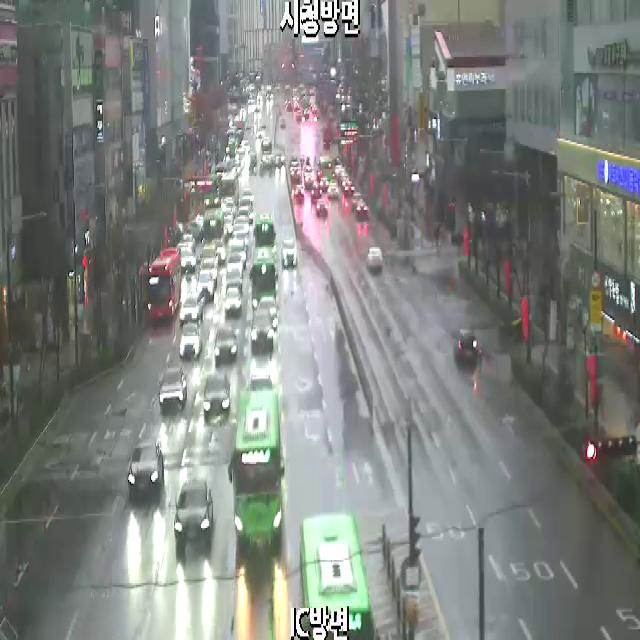Bus: (298, 513, 379, 640), (228, 388, 284, 548), (147, 249, 182, 322), (250, 261, 278, 304), (253, 212, 276, 260), (203, 208, 223, 246), (222, 172, 239, 205), (204, 173, 220, 206), (320, 157, 334, 182)
Car: (174, 478, 213, 540), (127, 439, 164, 497), (203, 374, 230, 422), (159, 366, 187, 409), (215, 327, 237, 366), (454, 328, 478, 363), (256, 297, 278, 333), (180, 294, 203, 327), (180, 324, 202, 358), (198, 270, 214, 300), (247, 374, 275, 391), (225, 287, 241, 316), (281, 240, 297, 268), (180, 249, 197, 273), (202, 261, 218, 286), (233, 227, 249, 250), (367, 248, 382, 272), (200, 248, 218, 268), (227, 254, 242, 278), (226, 272, 243, 292), (232, 242, 246, 266), (356, 198, 369, 218), (180, 234, 195, 250), (237, 208, 250, 225), (242, 188, 254, 205), (311, 182, 322, 200), (290, 168, 302, 184), (304, 168, 314, 187), (344, 181, 355, 198), (316, 200, 328, 215), (327, 183, 339, 198), (334, 158, 344, 176), (216, 243, 225, 262), (352, 191, 362, 207), (289, 156, 299, 169), (295, 186, 304, 200), (320, 178, 329, 190)
